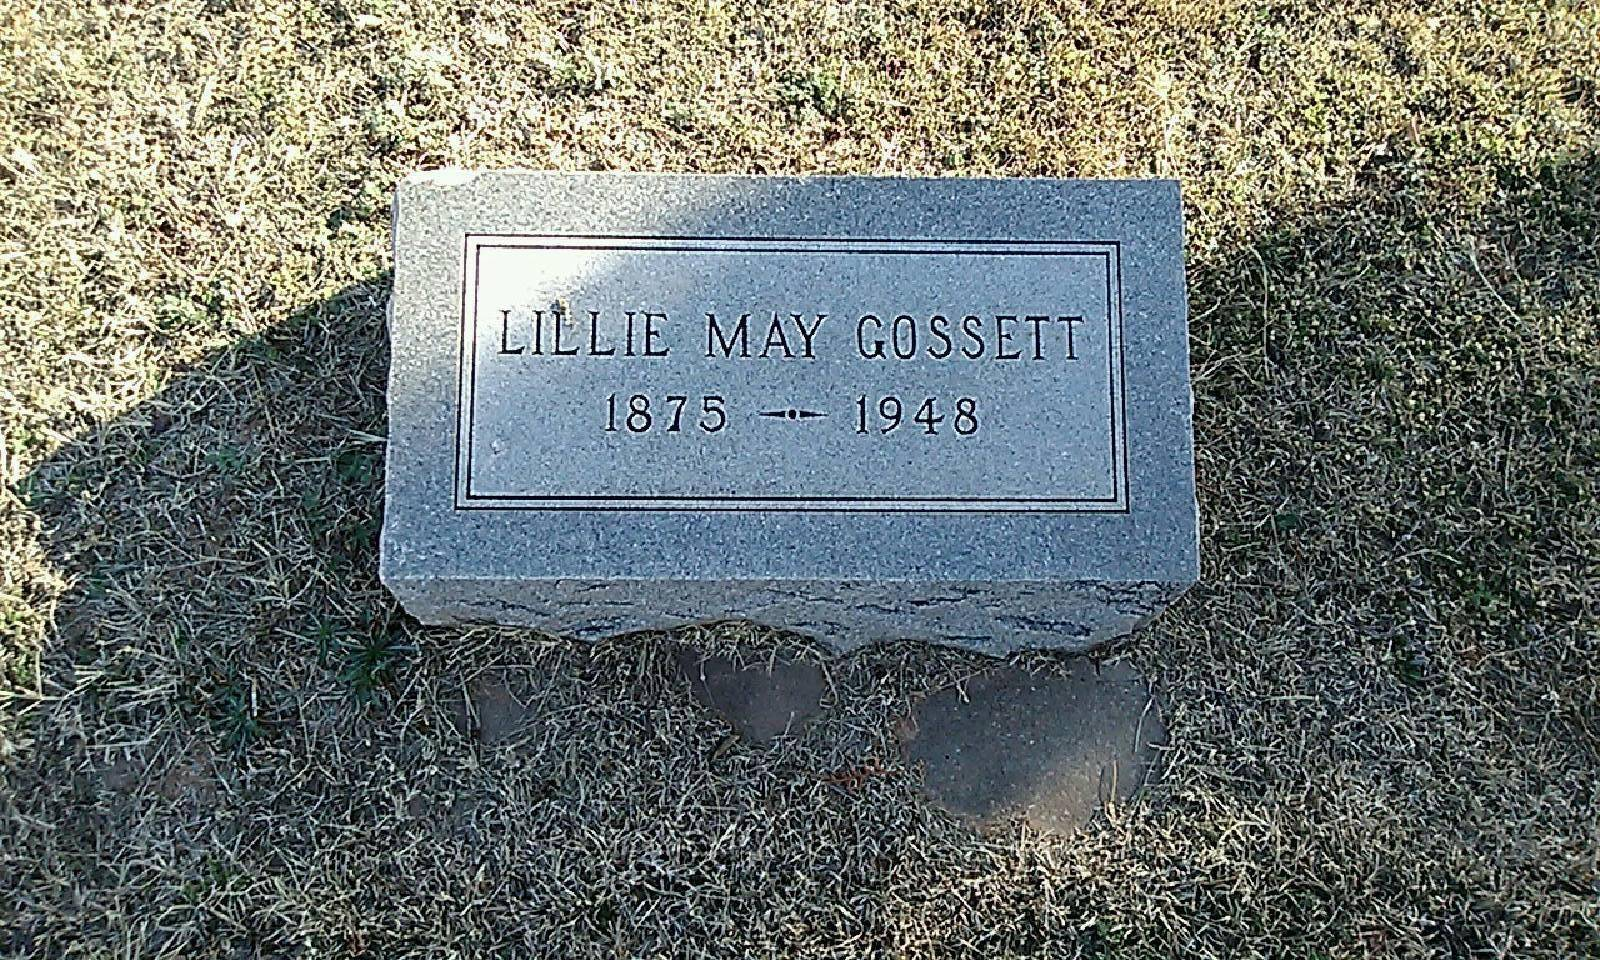flat: (379, 152, 1201, 657)
